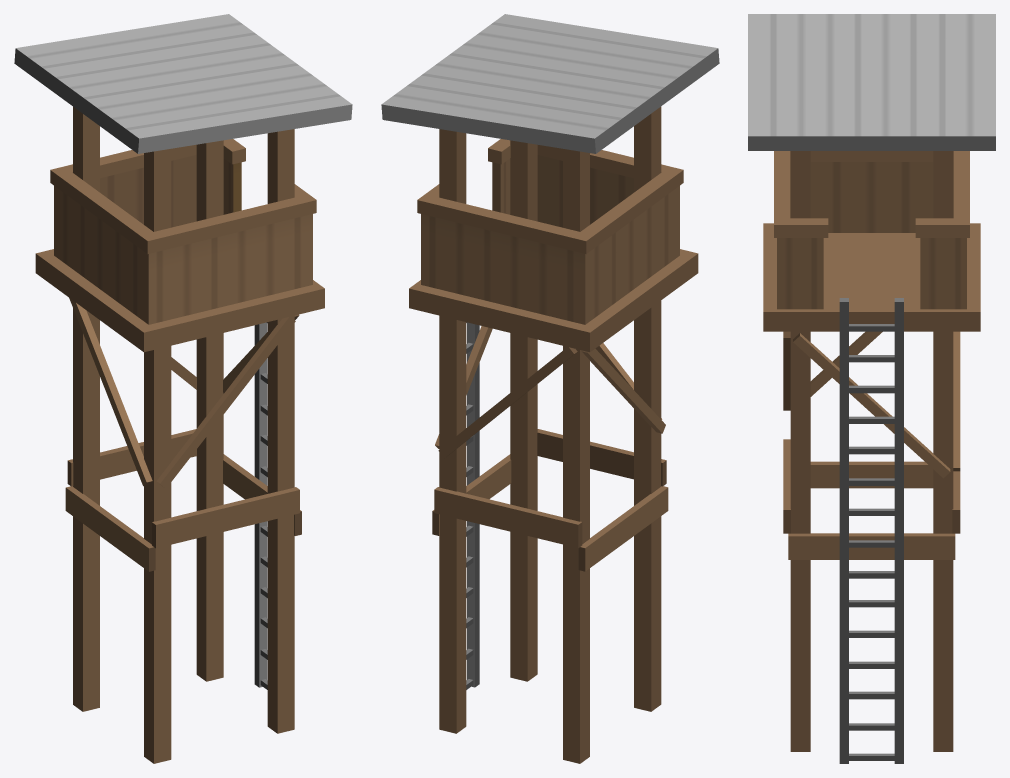
The model's file is SM_Bld_GuardTower_01.fbx.
3 views of the same model, side by side, from view 1: azimuth 30°, elevation 25°; view 2: azimuth 150°, elevation 25°; view 3: azimuth 270°, elevation 25° (orthographic).
Visible parts, largest first — view 1: SM_Bld_GuardTower_01; view 2: SM_Bld_GuardTower_01; view 3: SM_Bld_GuardTower_01.
Boxes of the visible parts, x1=… form: SM_Bld_GuardTower_01: x1=14, y1=14, x2=352, y2=763; SM_Bld_GuardTower_01: x1=381, y1=14, x2=719, y2=763; SM_Bld_GuardTower_01: x1=748, y1=14, x2=995, y2=763.
Bounding box in the file's own units: 4.53 × 13.11 × 4.52.
